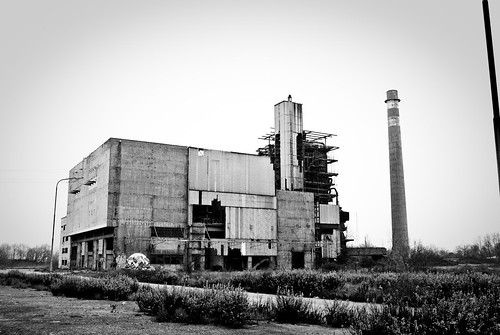building: (55, 124, 350, 277)
chimney: (375, 88, 410, 261)
sky: (1, 1, 496, 237)
